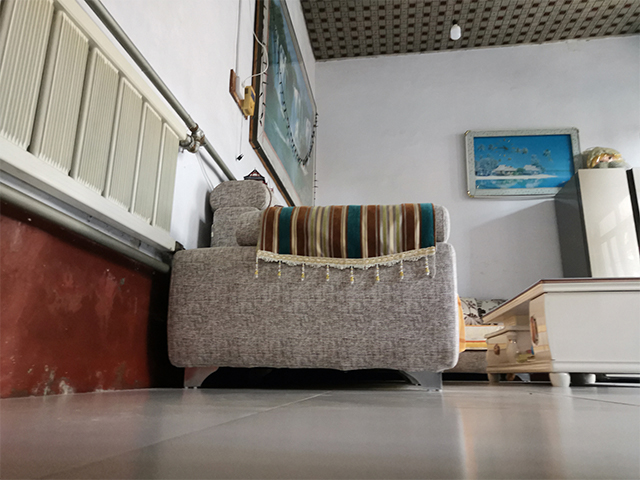sofa: (166, 176, 506, 393)
table: (478, 275, 640, 388)
